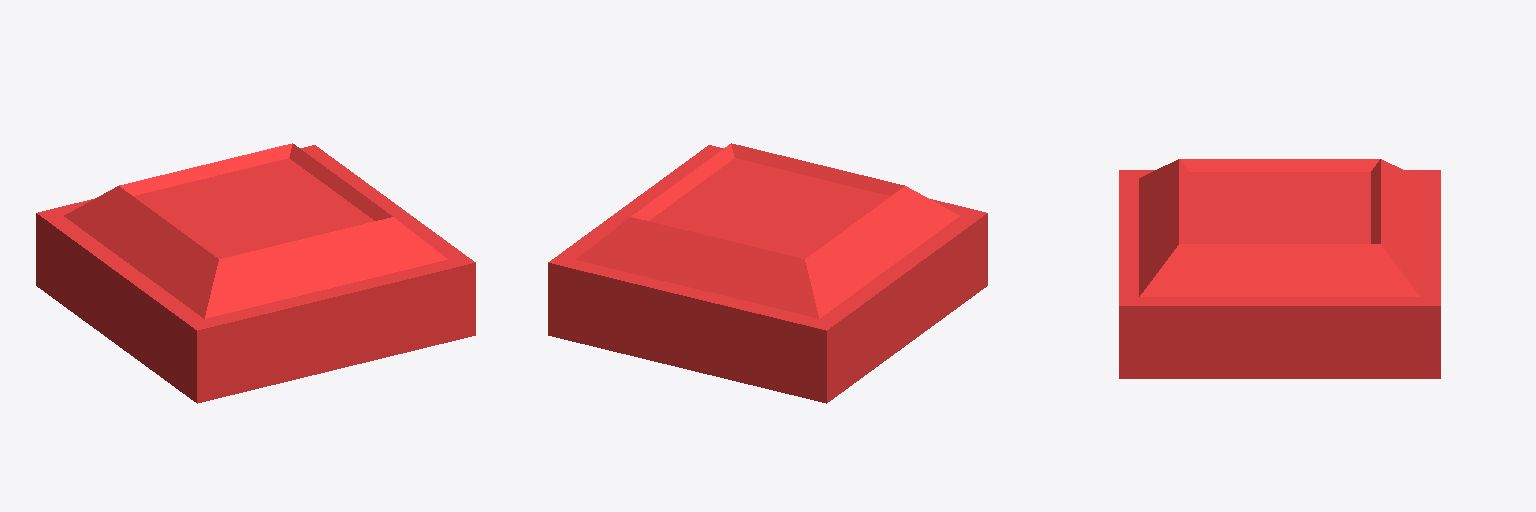
The model's file is RubyChocolate.obj.
3 renders of one model, left to right at view 1: azimuth 30°, elevation 25°; view 2: azimuth 150°, elevation 25°; view 3: azimuth 270°, elevation 25°, orthographic.
Parts seen in each view (by area): view 1: Union1; view 2: Union1; view 3: Union1.
Part boxes in pixels (left/top/right/bottom): Union1: left=36, top=143, right=475, bottom=403; Union1: left=548, top=143, right=987, bottom=403; Union1: left=1119, top=159, right=1440, bottom=378.
Size of the model in its own units: 4 by 1.5 by 4.